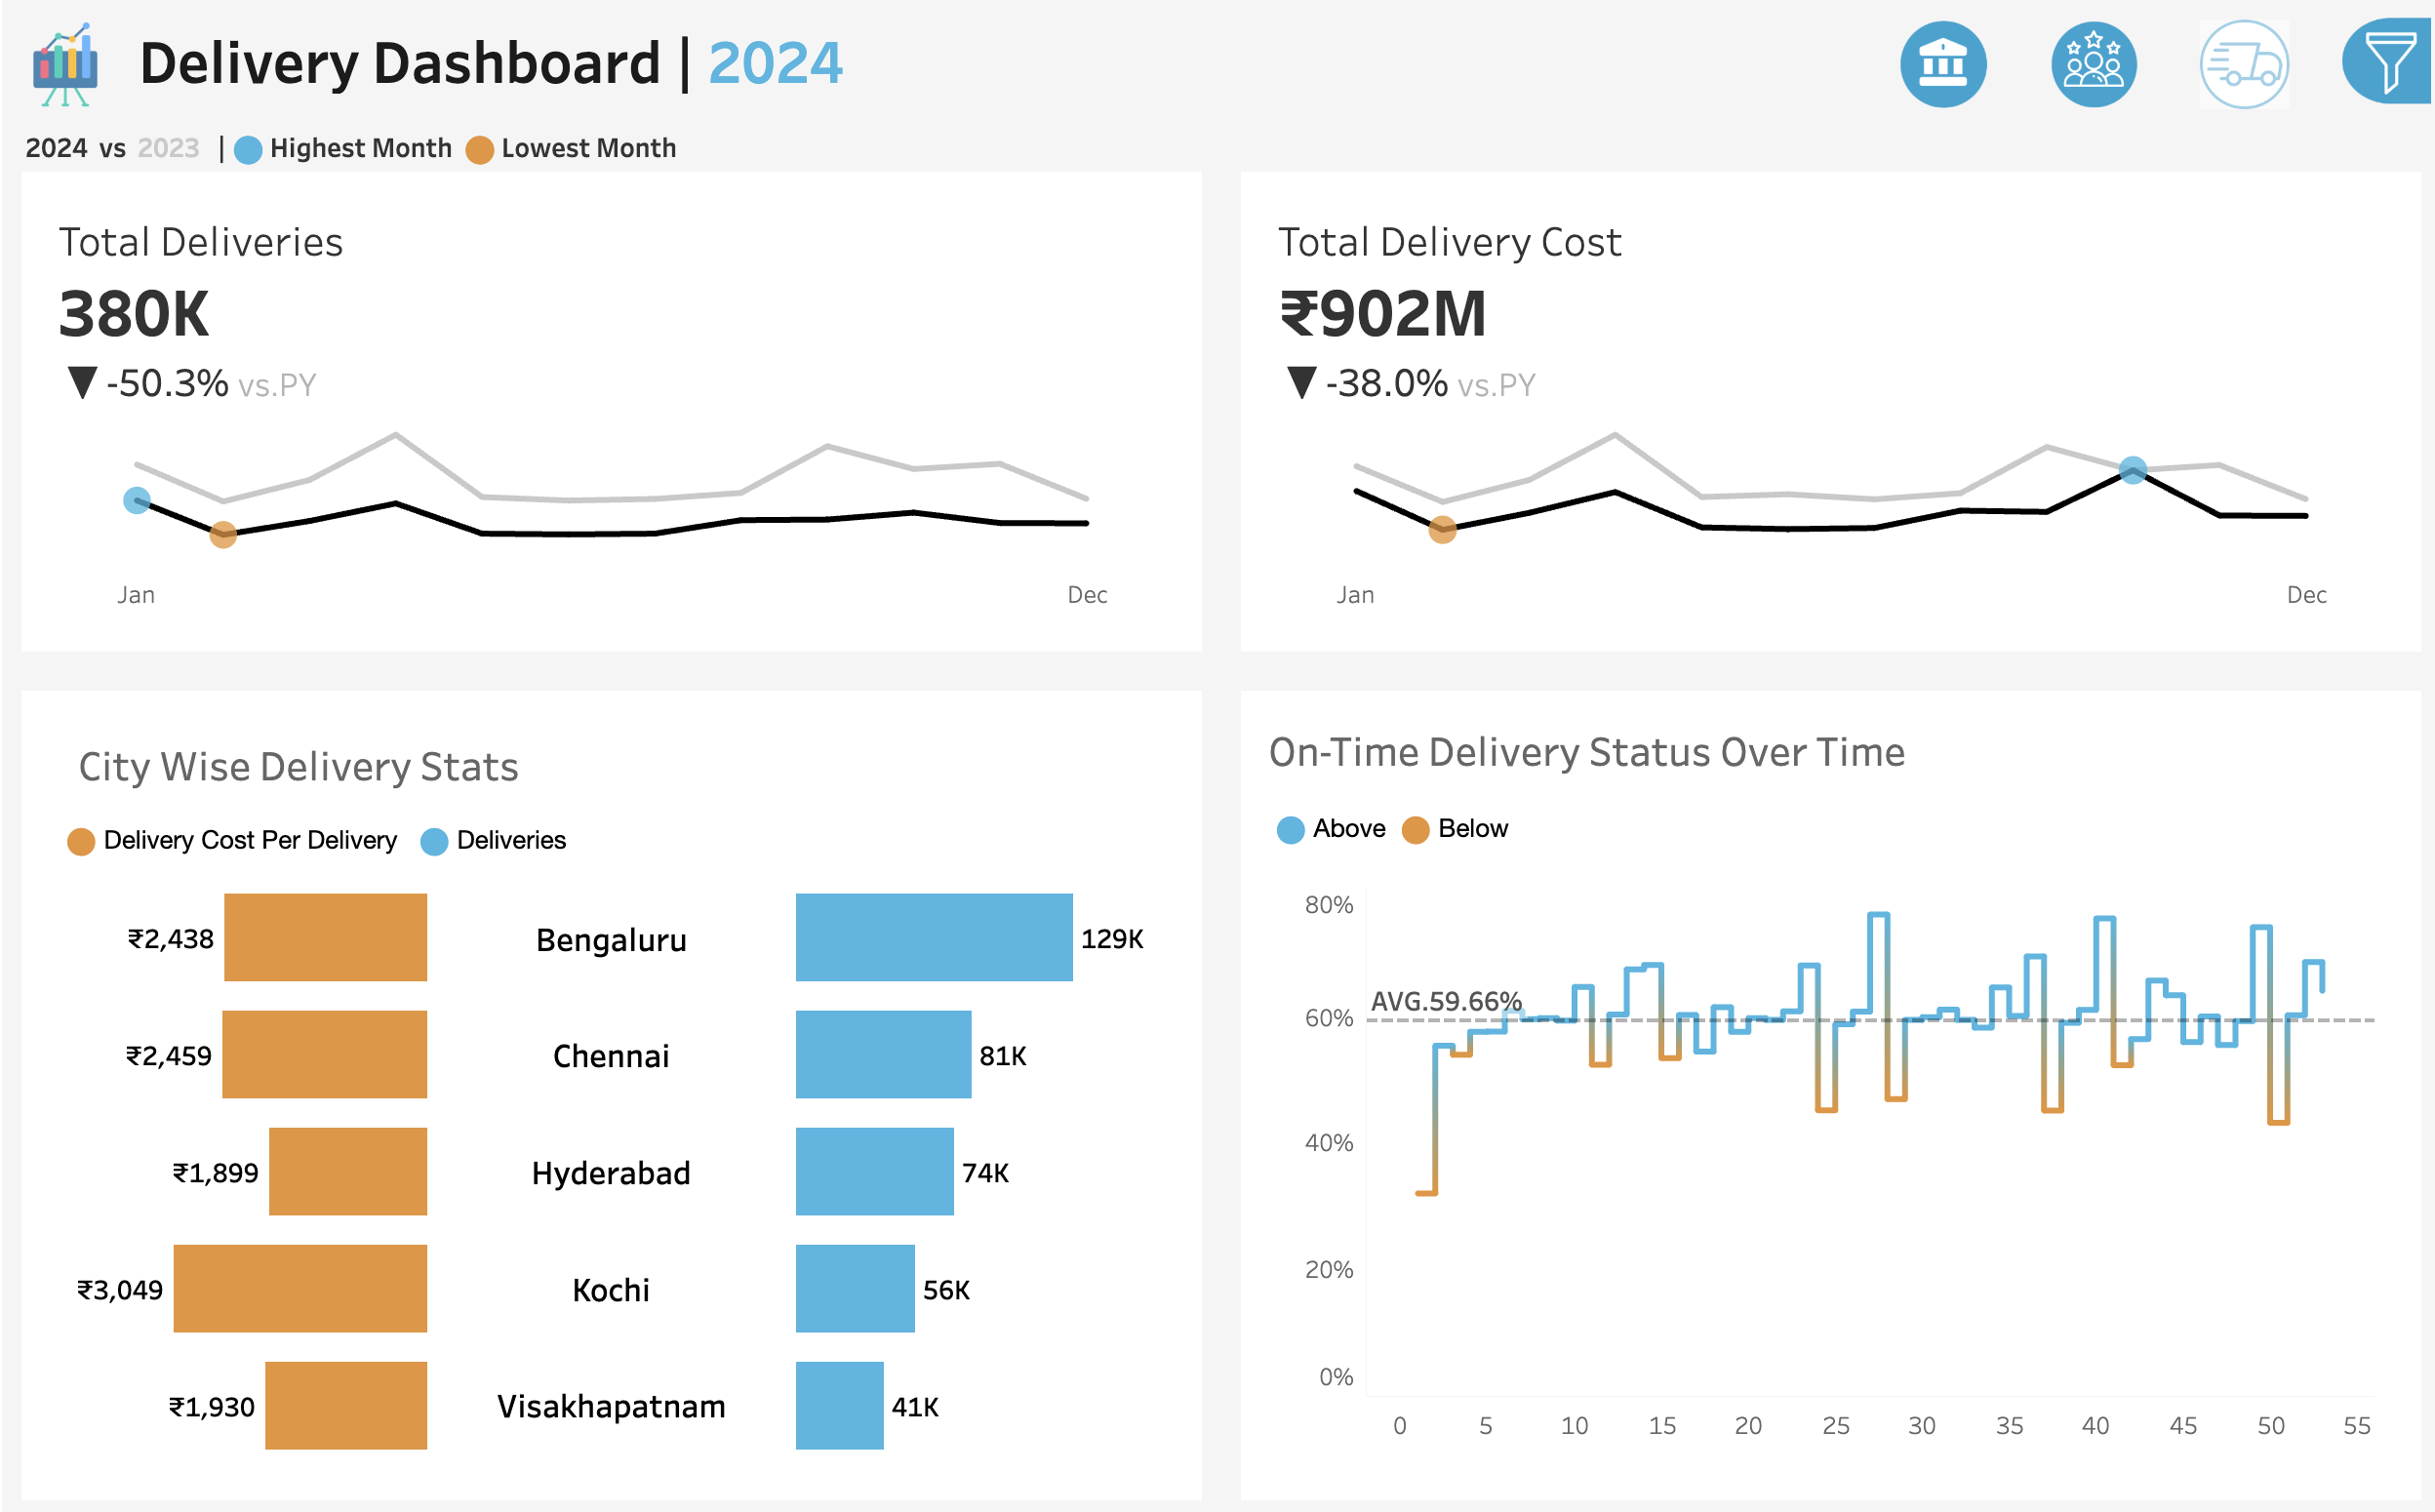

The dashboard page shown, as its layout file describes it:
{"tool":"tableau","page":{"name":"Delivery Dashboard","canvas":[1250,780],"ordinal":1},"visuals":[{"type":"image","param":"/Users/mohidshaik/Downloads/metrics.png","box":[0,5,70,58]},{"type":"text","box":[70,5,884,58]},{"type":"blank","box":[1190,5,55,58]},{"type":"dashboard-object","box":[956,7,78,54]},{"type":"dashboard-object","box":[1034,7,77,54]},{"type":"dashboard-object","box":[1111,7,77,54]},{"type":"dashboard-object","box":[1192,9,59,47]},{"type":"worksheet","title":"KPI LEGEND","mark":"Automatic","box":[0,63,1250,26]},{"type":"blank","box":[1061,70,171,32]},{"type":"worksheet","title":"KPI Delivery","mark":"Line","rows":["Calculation_4993647566455824387"],"cols":["delivered_date"],"box":[10,89,615,246]},{"type":"worksheet","title":"KPI Delivery Cost","mark":"Line","rows":["Calculation_5077878953467461635"],"cols":["delivered_date"],"box":[625,89,615,246]},{"type":"text","box":[1061,102,171,32]},{"type":"parameter","param":"[Parameters].[Parameter 1]","box":[1061,134,171,95]},{"type":"blank","box":[1061,229,171,28]},{"type":"filter","title":"Delivery City","param":"[federated.0jrxjab129si8m1czdj530nh74pa].[none:delivered_city:nk]","box":[1061,257,171,52]},{"type":"blank","box":[1061,309,171,32]},{"type":"filter","title":"Delivery City","param":"[federated.0jrxjab129si8m1czdj530nh74pa].[none:Category:nk]","box":[1061,341,171,52]},{"type":"text","box":[645,365,585,45]},{"type":"text","box":[25,370,575,46]},{"type":"text","box":[645,410,585,32]},{"type":"text","box":[25,416,575,32]},{"type":"worksheet","title":"Delivery Status","mark":"Automatic","rows":["Calculation_3468967983258632202"],"cols":["delivered_date"],"box":[645,442,585,318]},{"type":"worksheet","title":"Delivery City","mark":"Bar","rows":["delivered_city"],"cols":["Calculation_3468967983263985677","Calculation_3468967983266934800","Calculation_3468967983252922368"],"box":[25,448,575,307]}]}

Visuals, with their boxes in screenshot pixels (x1, y1, x2, y2), scaled from the page's 1250x780 canvas onto the 2435x1512 screenshot:
image: Rect(0, 10, 137, 122)
text: Rect(137, 10, 1858, 122)
blank: Rect(2318, 10, 2425, 122)
dashboard-object: Rect(1862, 14, 2015, 118)
dashboard-object: Rect(2015, 14, 2164, 118)
dashboard-object: Rect(2164, 14, 2314, 118)
dashboard-object: Rect(2322, 18, 2434, 108)
"KPI LEGEND" worksheet: Rect(0, 122, 2434, 173)
blank: Rect(2067, 136, 2400, 198)
"KPI Delivery" worksheet (Line marks): Rect(20, 173, 1217, 650)
"KPI Delivery Cost" worksheet (Line marks): Rect(1217, 173, 2415, 650)
text: Rect(2067, 198, 2400, 259)
parameter: Rect(2067, 259, 2400, 444)
blank: Rect(2067, 444, 2400, 498)
"Delivery City" filter: Rect(2067, 498, 2400, 599)
blank: Rect(2067, 599, 2400, 661)
"Delivery City" filter: Rect(2067, 661, 2400, 762)
text: Rect(1257, 707, 2396, 795)
text: Rect(49, 717, 1169, 807)
text: Rect(1257, 795, 2396, 856)
text: Rect(49, 807, 1169, 868)
"Delivery Status" worksheet: Rect(1257, 856, 2396, 1473)
"Delivery City" worksheet (Bar marks): Rect(49, 868, 1169, 1463)
